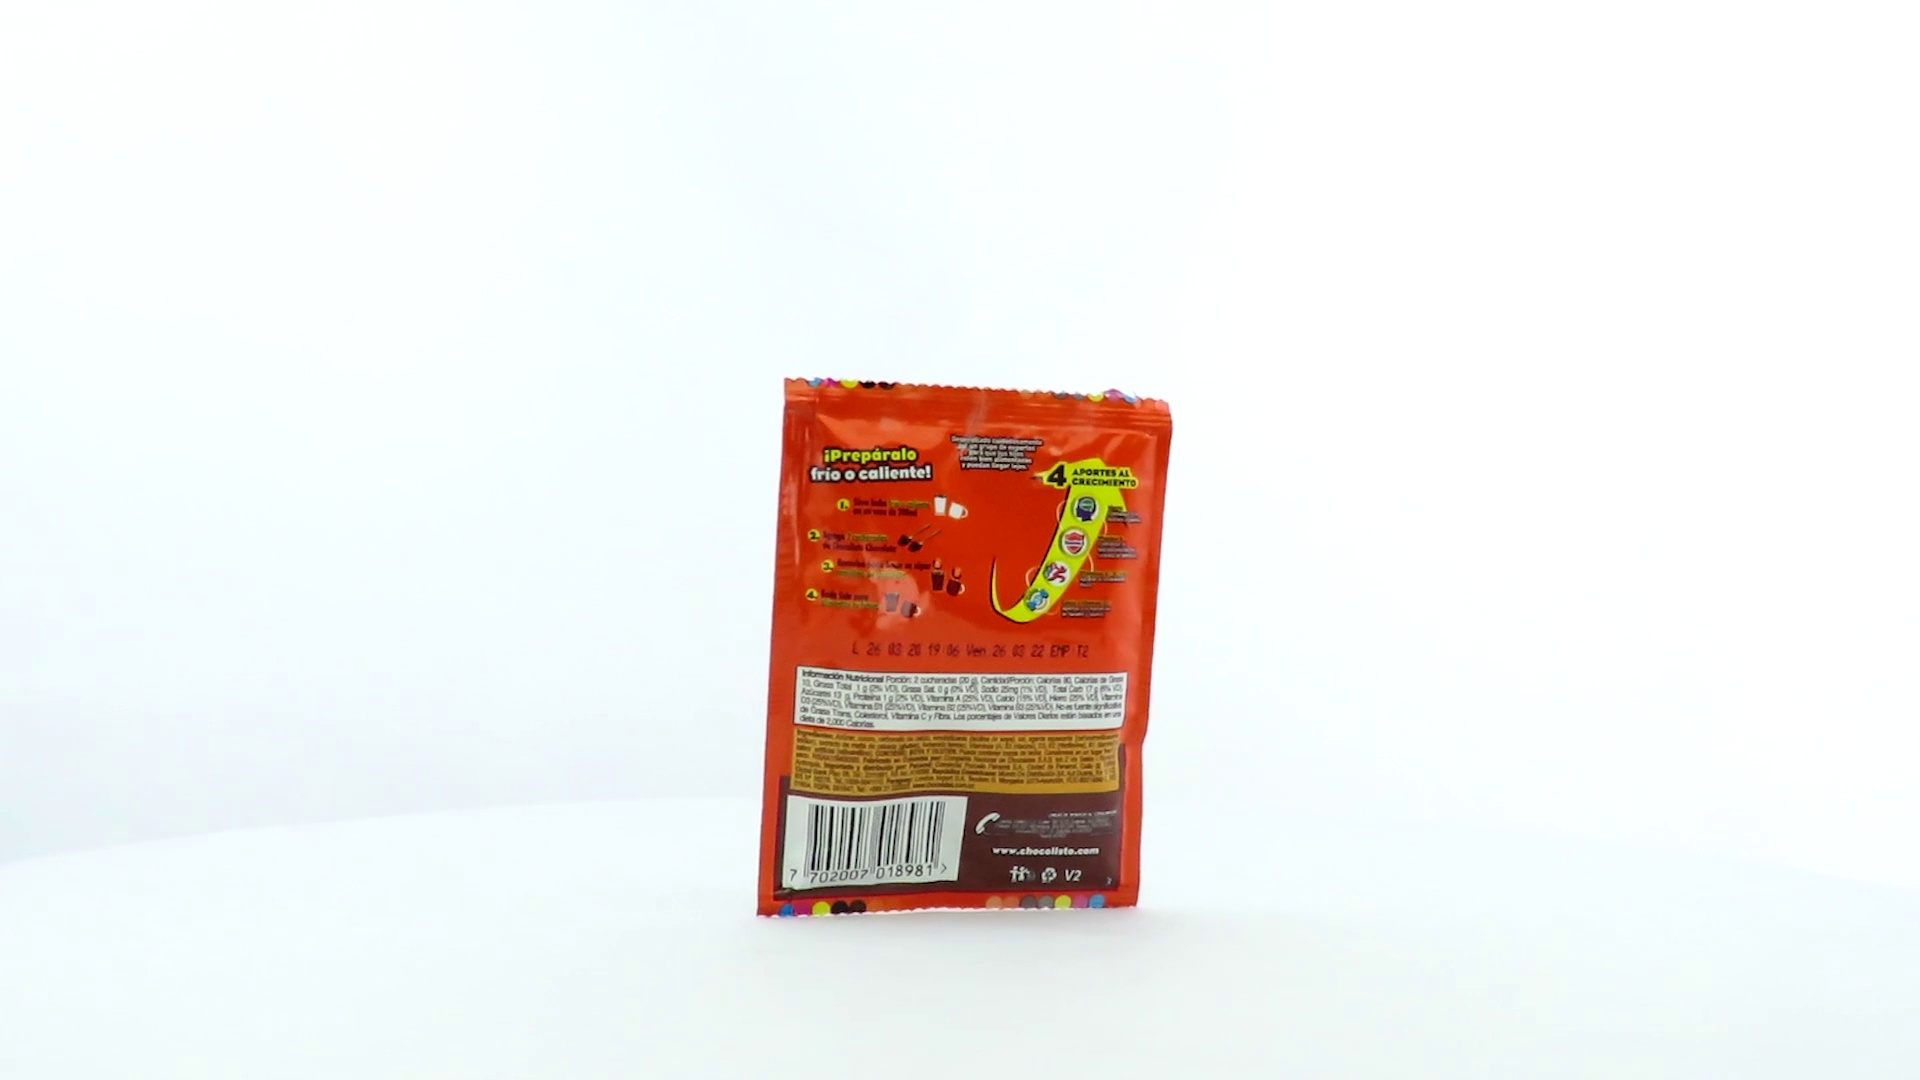COL0170103SOB02000: (752, 372, 1179, 924)
